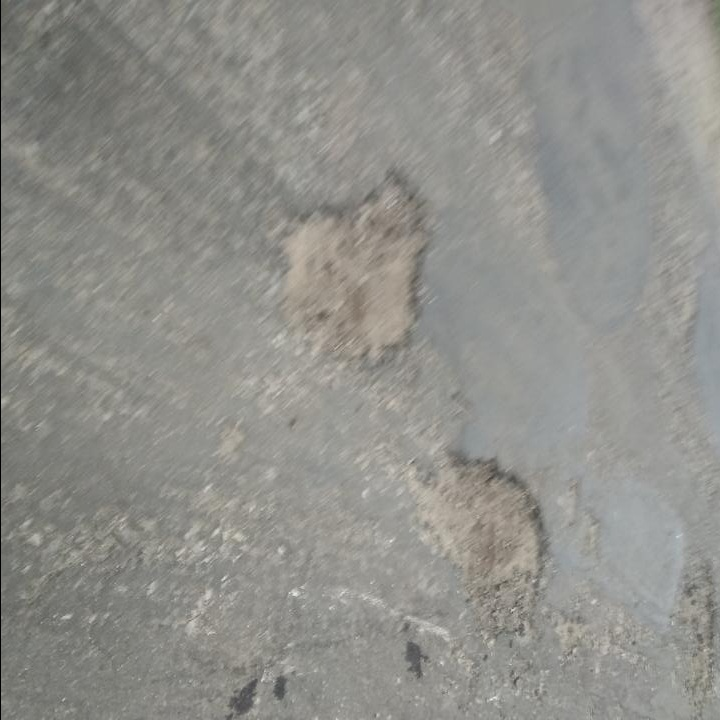pothole: (272, 158, 440, 377), (401, 444, 553, 622), (674, 551, 720, 705)
